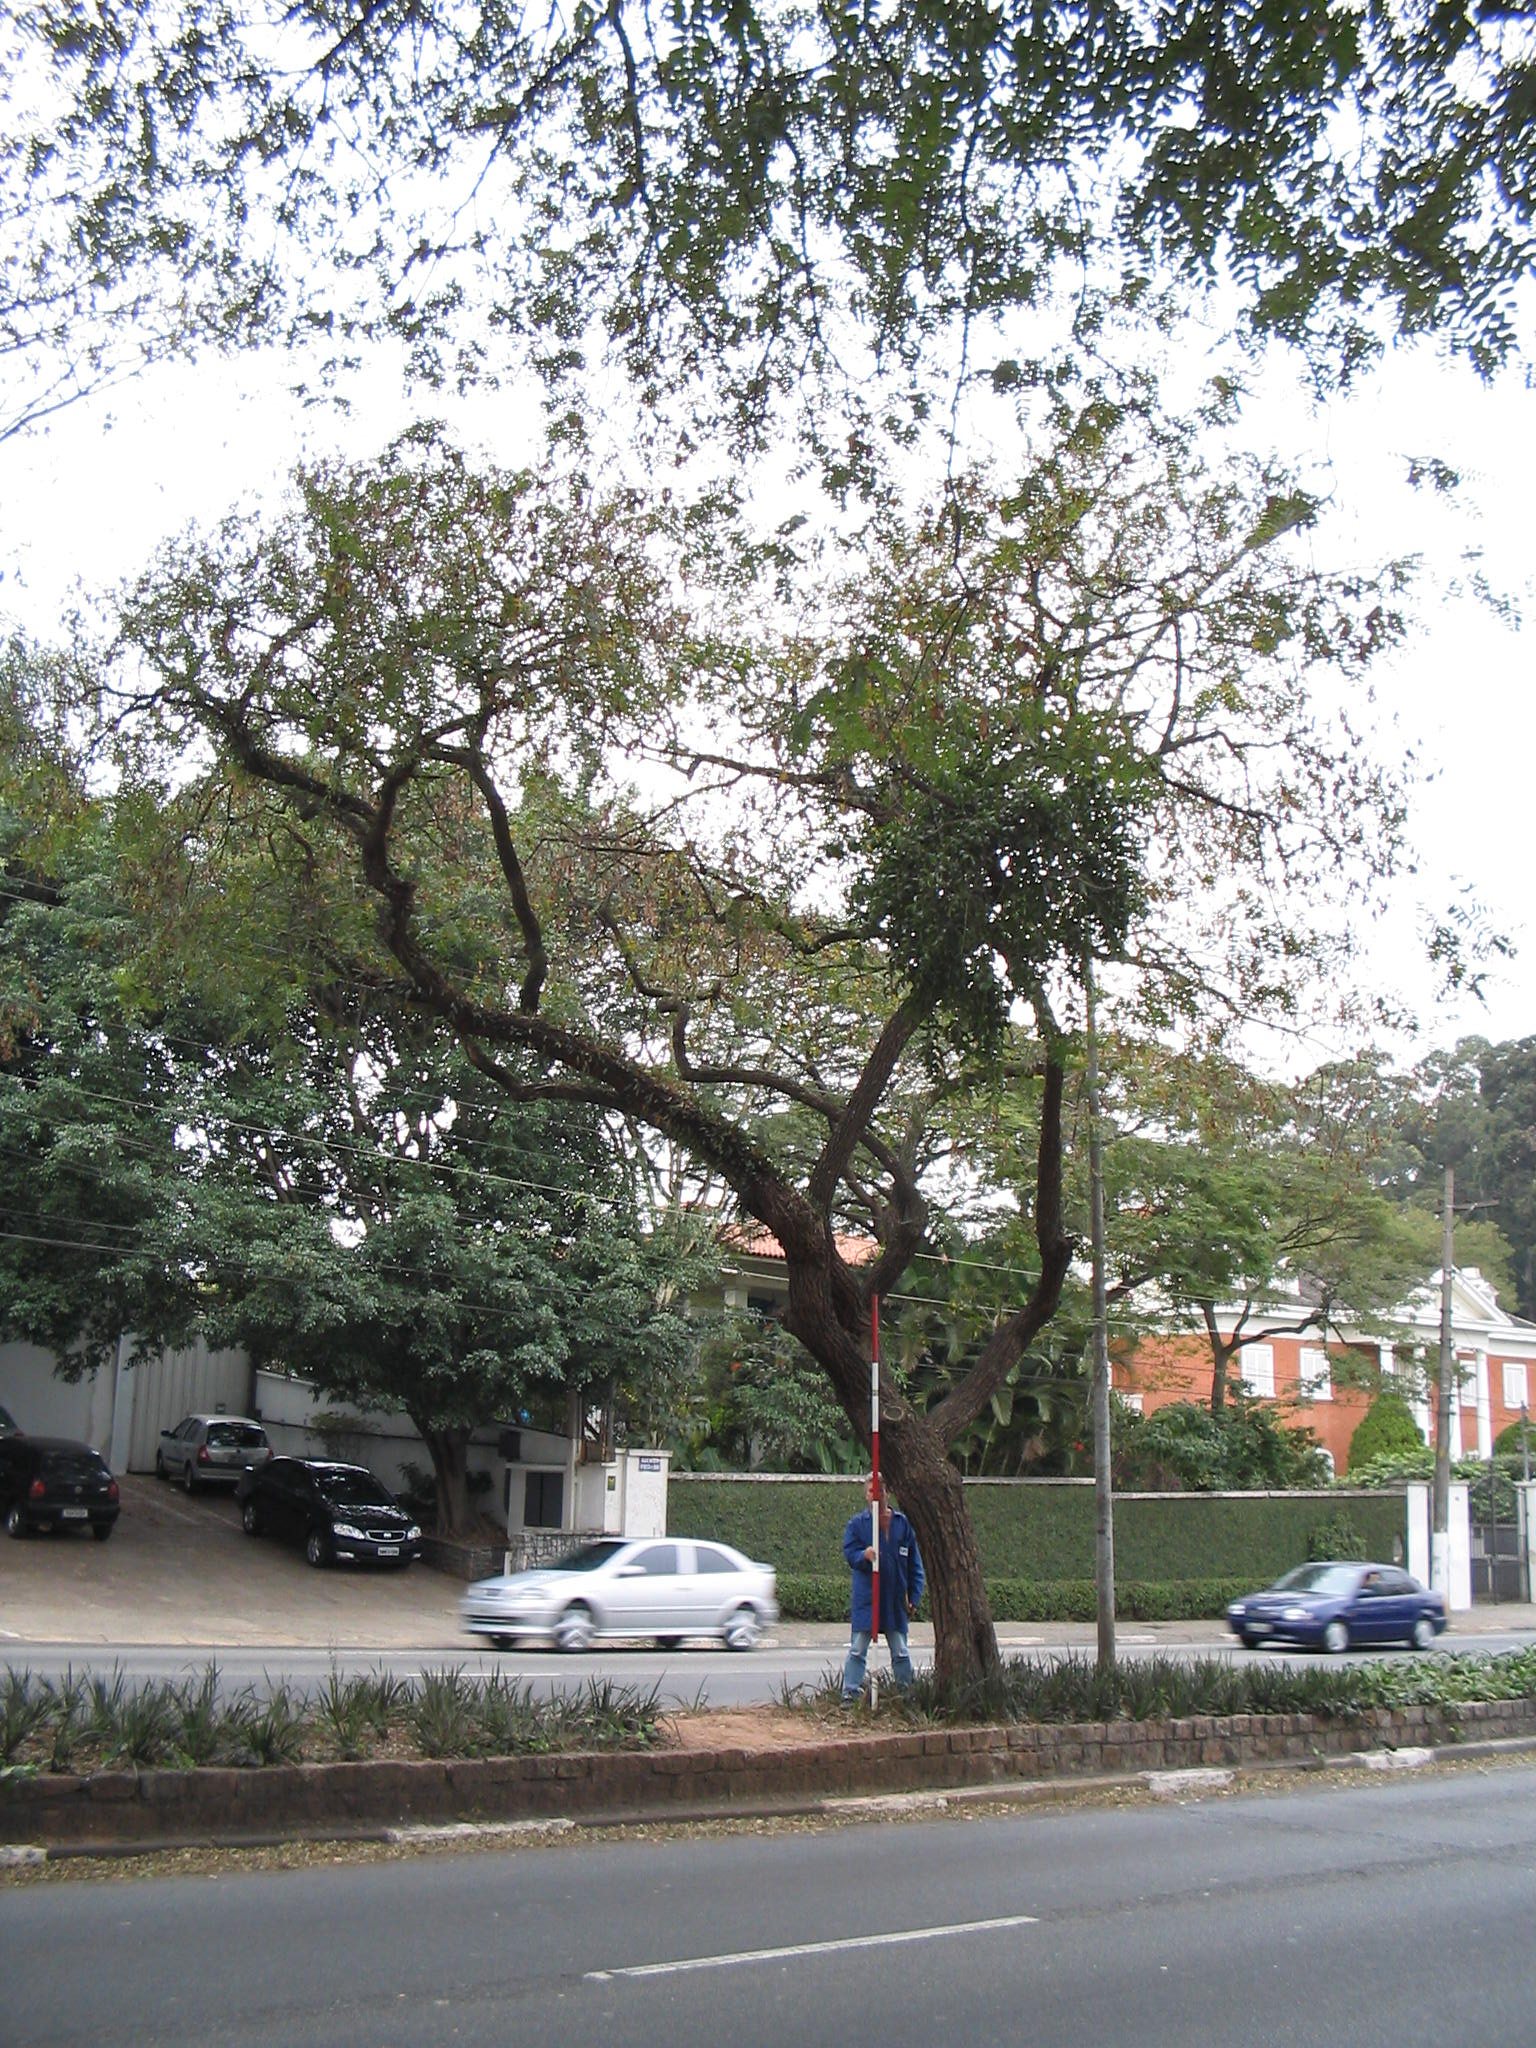crown: (77, 424, 1431, 1126)
stem: (891, 1411, 1066, 1721)
stick: (837, 1292, 904, 1722)
tree: (69, 416, 1444, 1724)
